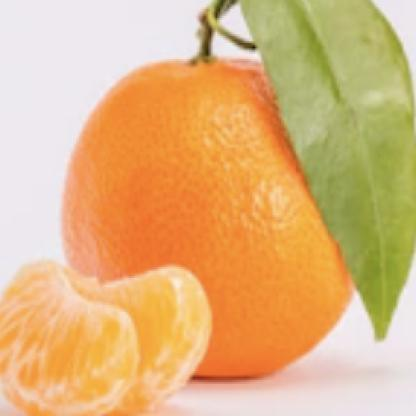fresh: (57, 51, 353, 379)
